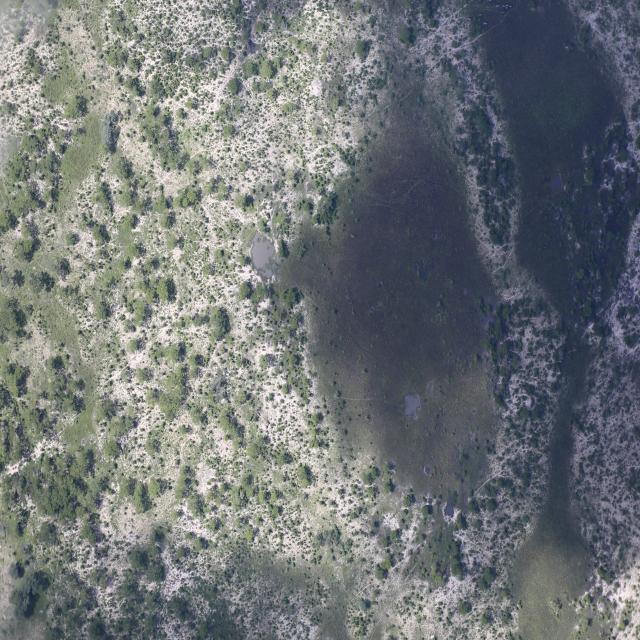elephant: (466, 18, 472, 21), (483, 22, 488, 25), (531, 8, 535, 11), (502, 5, 506, 7), (479, 14, 482, 16), (496, 5, 499, 7), (506, 4, 509, 6), (506, 7, 509, 9), (499, 7, 502, 9), (502, 12, 505, 13), (510, 6, 513, 7), (489, 0, 491, 1)
